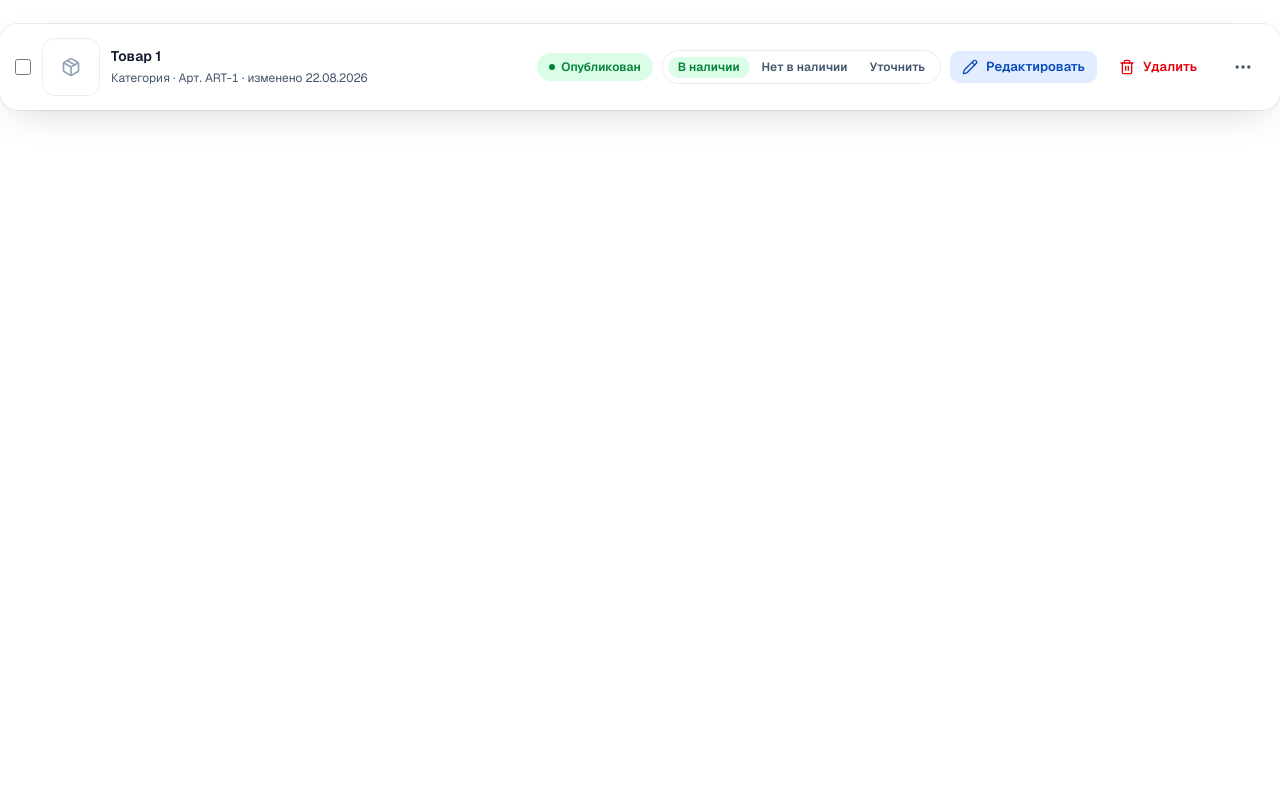
Test case: ProductsList publication and hotspot state › Undo закрепления сохраняет более позднее изменение наличия
What coordinates should you click on to do the following:
click the button named "Открыть действия с товаром «Товар 1»"
I would click on:
 (1243, 67)
Its box is x1=1221 y1=45 x2=1265 y2=89.
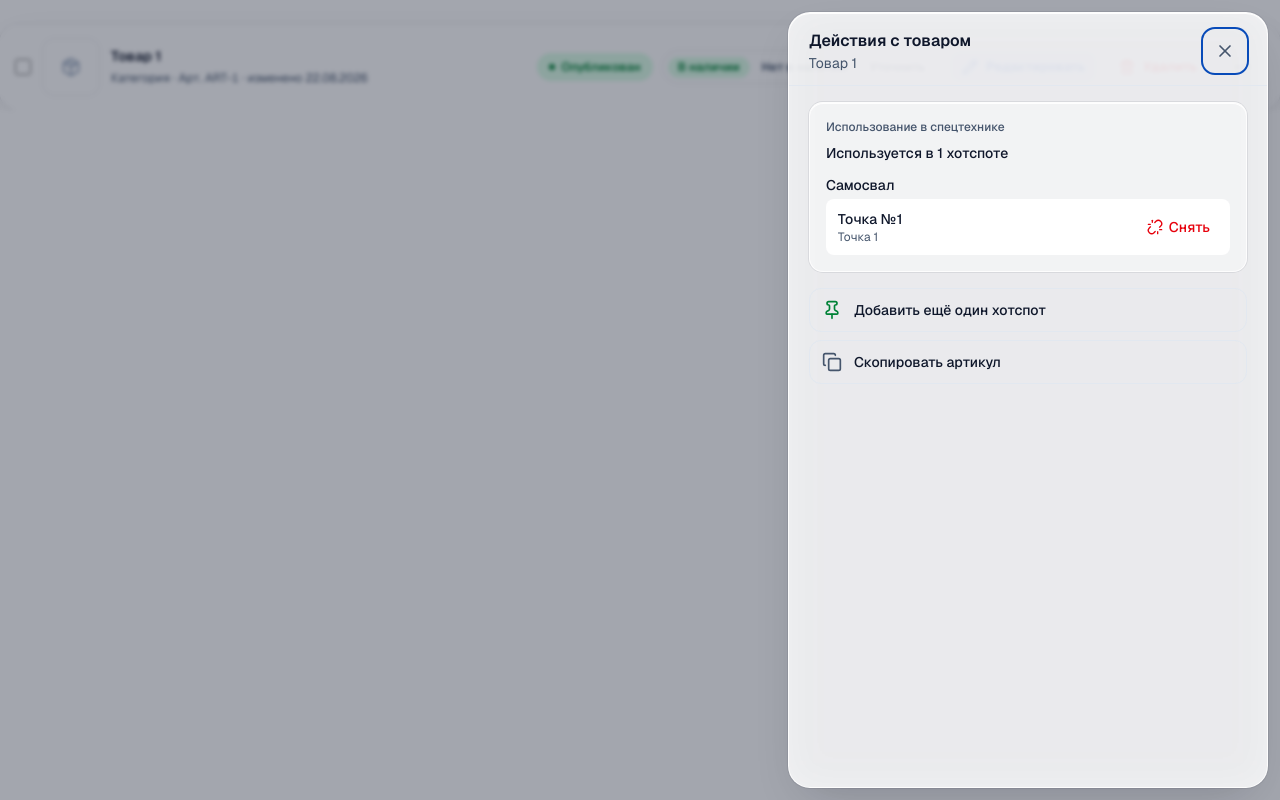
What coordinates should you click on to do the following:
click the button with aria-label "Снять с хотспота"
I would click on:
 (1178, 227)
Its box is x1=1139 y1=205 x2=1218 y2=249.
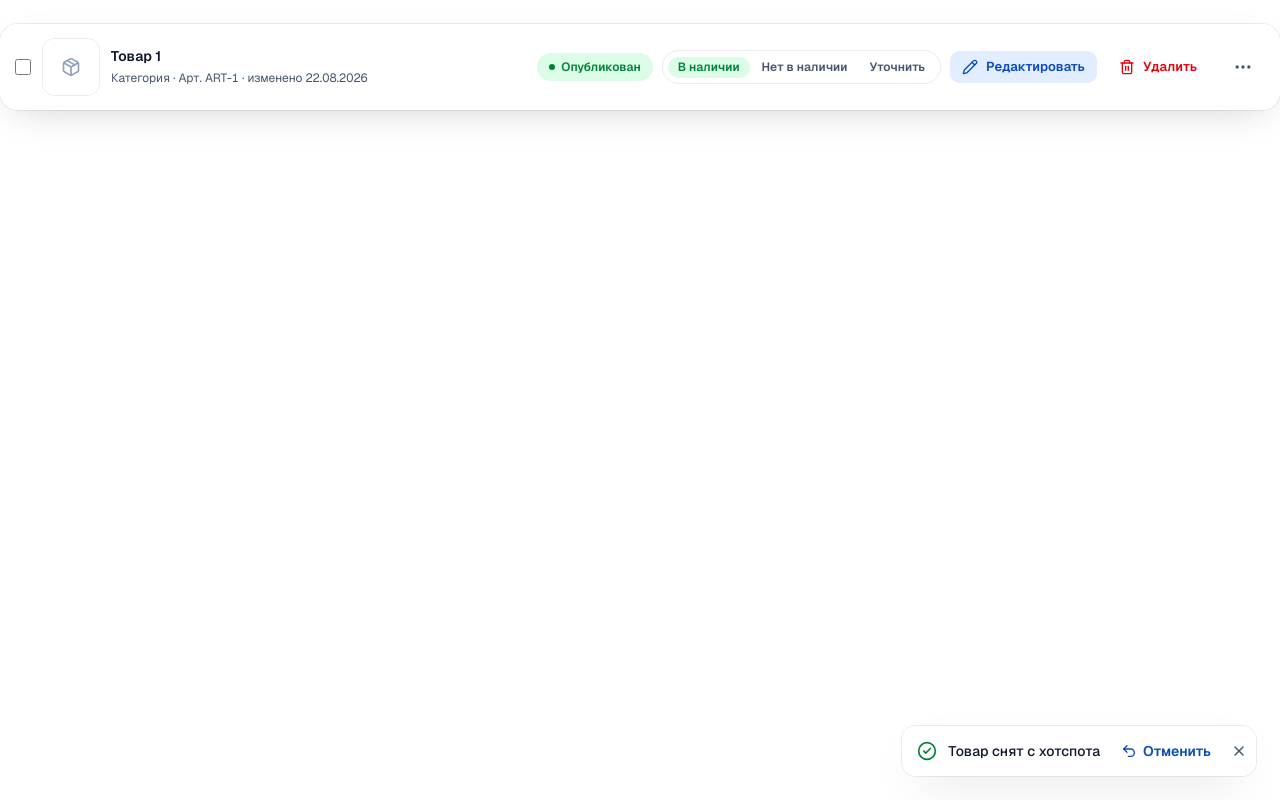
Expected: the text "Товар снят с хотспота" is shown, x1=950 y1=741 x2=1101 y2=761
Expected: the button "Отменить" is shown, x1=1113 y1=737 x2=1219 y2=765
What coordinates should you click on to do the following:
click the radio button labelled "Уточнить"
I would click on:
 (897, 67)
Its box is x1=859 y1=56 x2=935 y2=78.
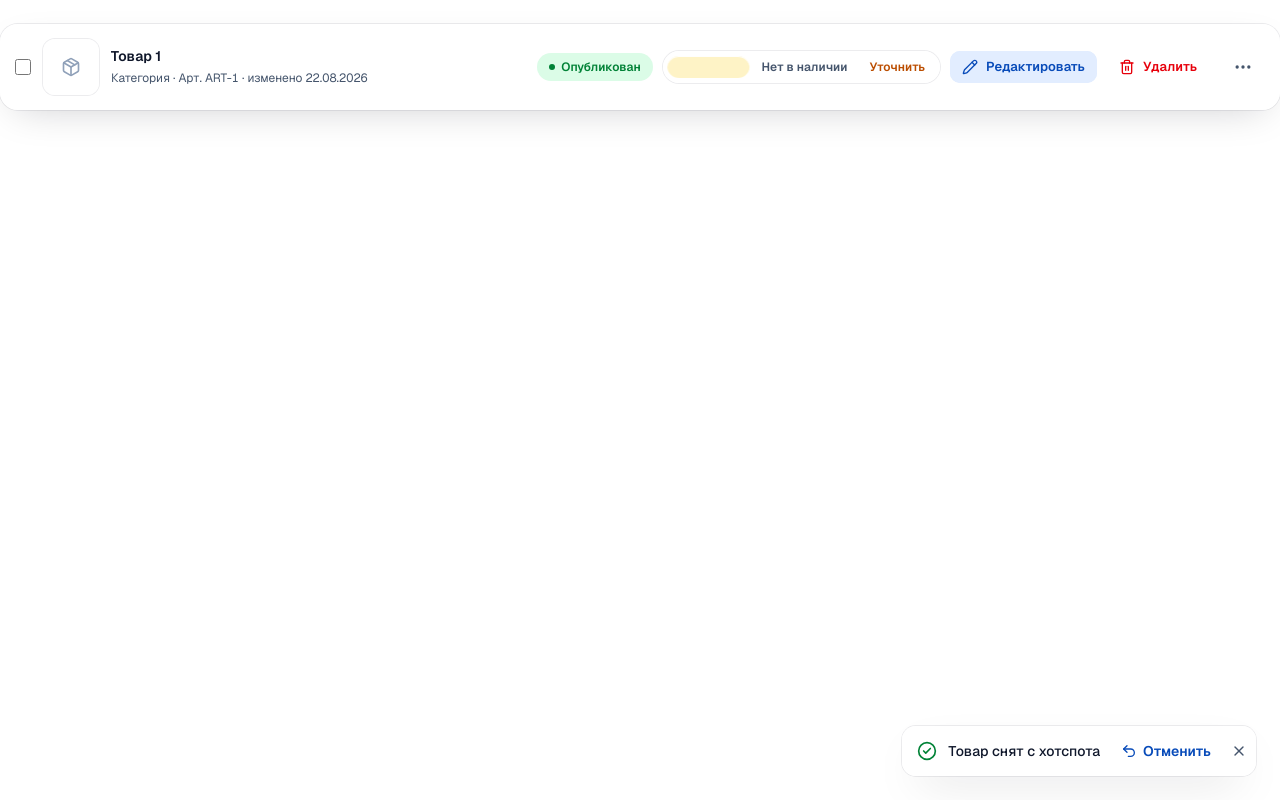
What coordinates should you click on to do the following:
click the button "Отменить"
I would click on:
 (1166, 751)
Its box is x1=1113 y1=737 x2=1219 y2=765.
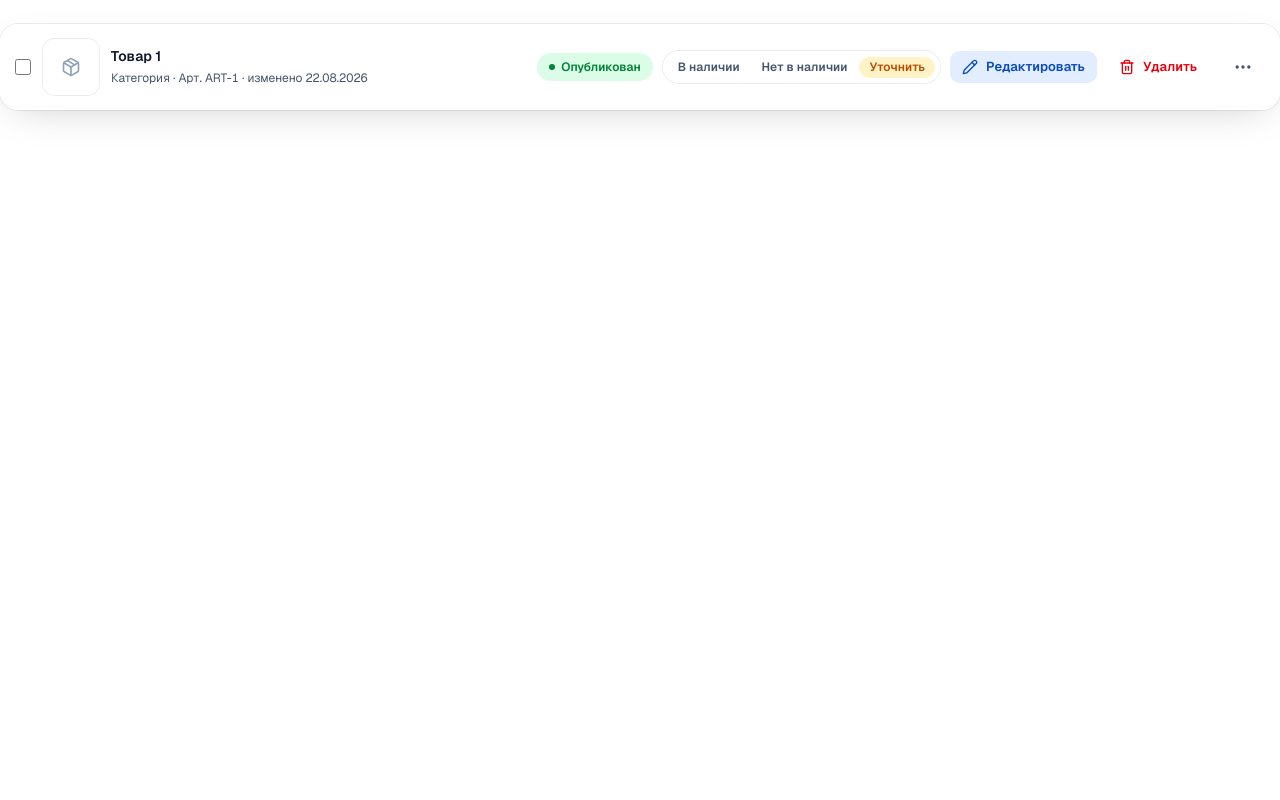
What coordinates should you click on to do the following:
click the button named "Открыть действия с товаром «Товар 1»"
I would click on:
 (1243, 67)
Its box is x1=1221 y1=45 x2=1265 y2=89.
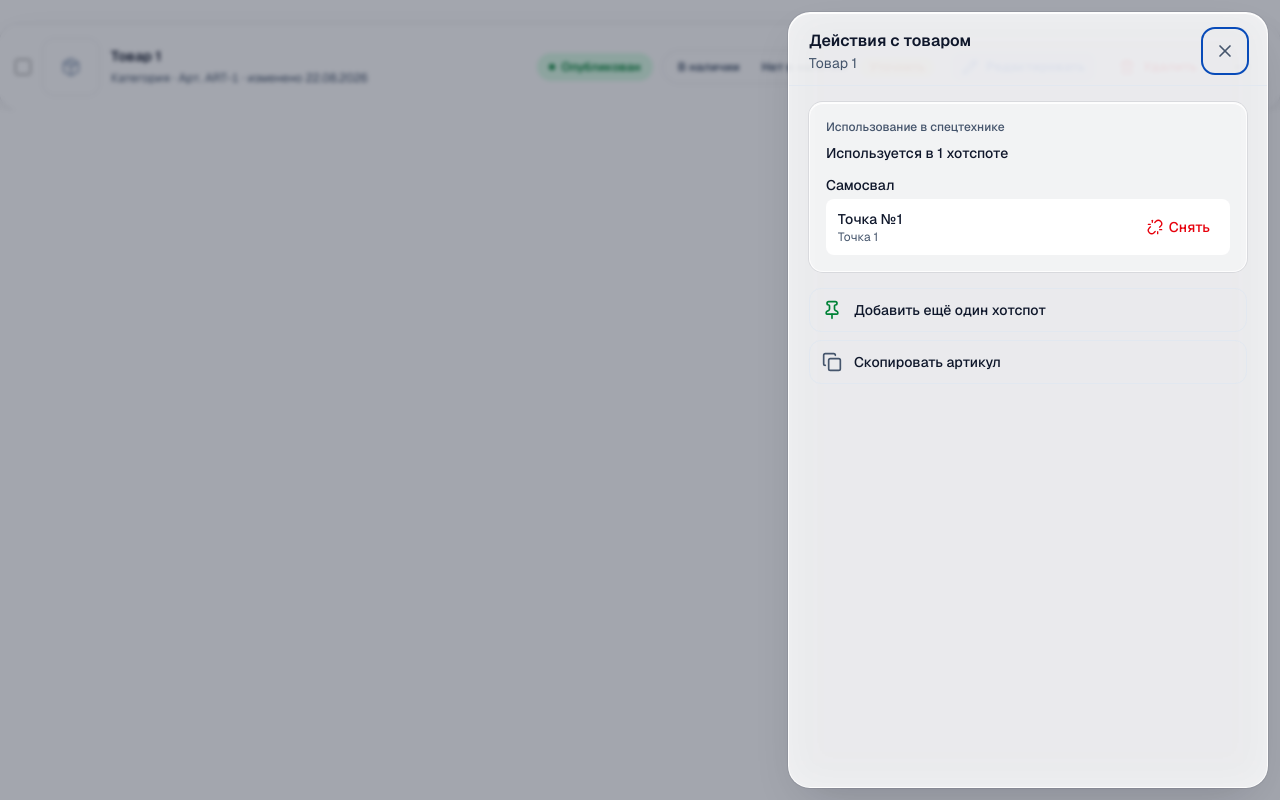
Expected: the text "Самосвал" is shown, x1=826 y1=176 x2=894 y2=194
Expected: the text "Точка №1" is shown, x1=838 y1=210 x2=902 y2=228
